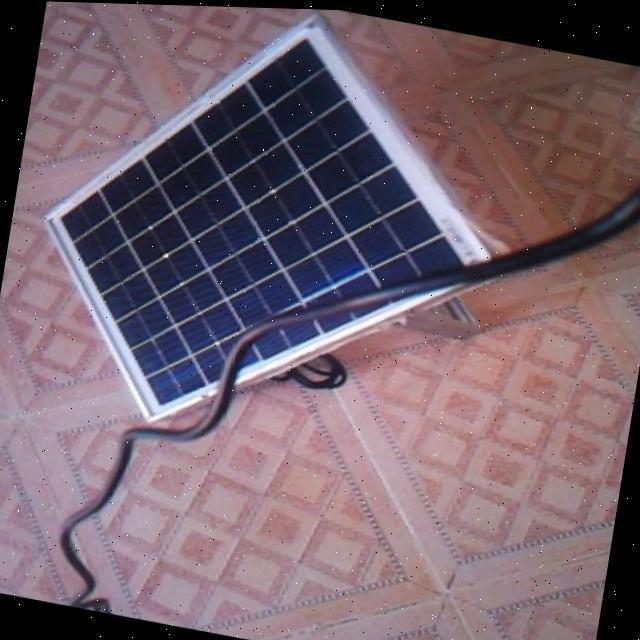Normal Solar Panel: (17, 1, 523, 474)
